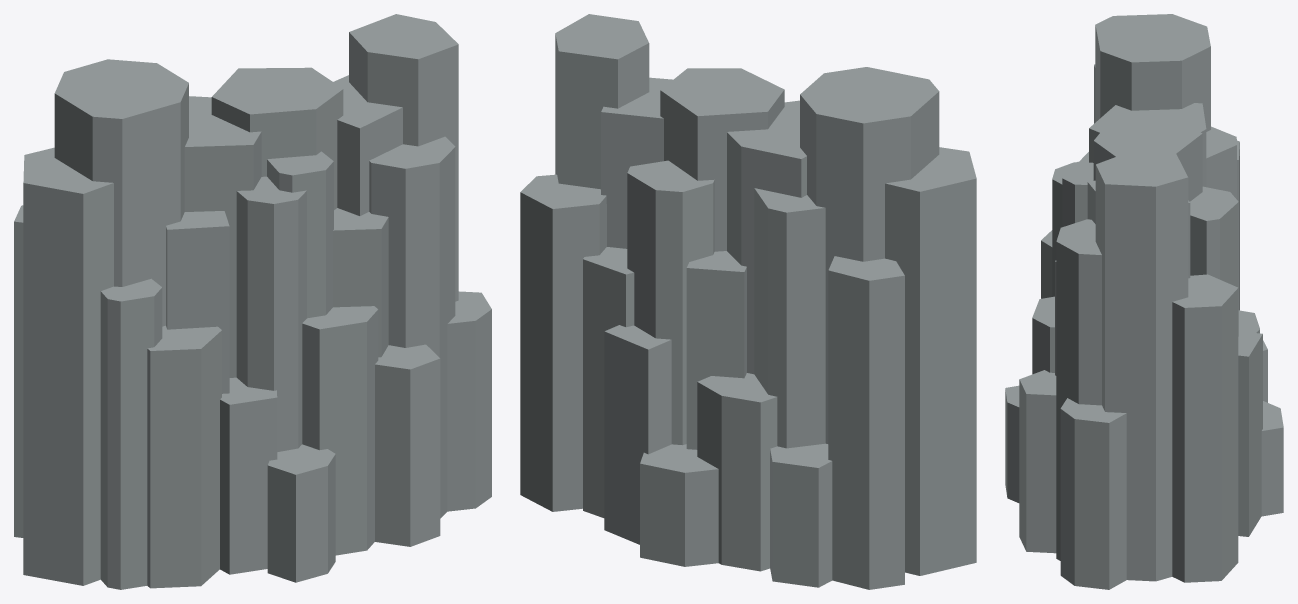
The model's file is NHP_Rock_Wall_A1_03.fbx.
3 views of the same model, side by side, from view 1: azimuth 30°, elevation 25°; view 2: azimuth 150°, elevation 25°; view 3: azimuth 270°, elevation 25° (orthographic). The views are drawn at different scales.
Visible parts, largest first — view 1: NHP_Rock_Wall_A1_03; view 2: NHP_Rock_Wall_A1_03; view 3: NHP_Rock_Wall_A1_03.
Boxes of the visible parts, x1,y1,x2,y2 form: NHP_Rock_Wall_A1_03: [14, 14, 491, 589]; NHP_Rock_Wall_A1_03: [520, 14, 976, 589]; NHP_Rock_Wall_A1_03: [1005, 14, 1283, 589].
Bounding box in the file's own units: 12.01 × 11.89 × 7.39.
